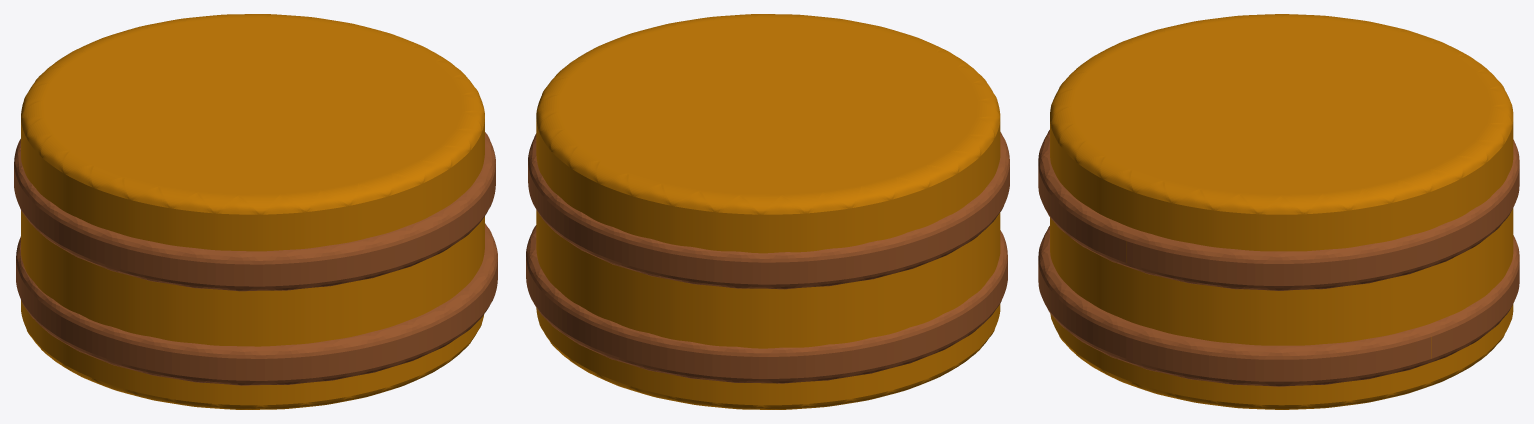
The model's file is bolocilindro choco.glb.
3 renders of one model, left to right at view 1: azimuth 30°, elevation 25°; view 2: azimuth 150°, elevation 25°; view 3: azimuth 270°, elevation 25°, orthographic.
Parts seen in each view (by area): view 1: Cylinder.003, Cylinder.001, Cylinder.000; view 2: Cylinder.003, Cylinder.001, Cylinder.000; view 3: Cylinder.003, Cylinder.000, Cylinder.001.
Part boxes in pixels (bbox=[...]): Cylinder.003: bbox=[21, 14, 484, 409]; Cylinder.001: bbox=[14, 132, 495, 291]; Cylinder.000: bbox=[16, 223, 497, 385]; Cylinder.003: bbox=[536, 14, 1000, 409]; Cylinder.001: bbox=[528, 132, 1009, 289]; Cylinder.000: bbox=[526, 225, 1007, 383]; Cylinder.003: bbox=[1050, 14, 1513, 409]; Cylinder.000: bbox=[1038, 226, 1519, 386]; Cylinder.001: bbox=[1038, 130, 1519, 290].
Bounding box in the file's own units: 2.7 × 1.3 × 2.68.
